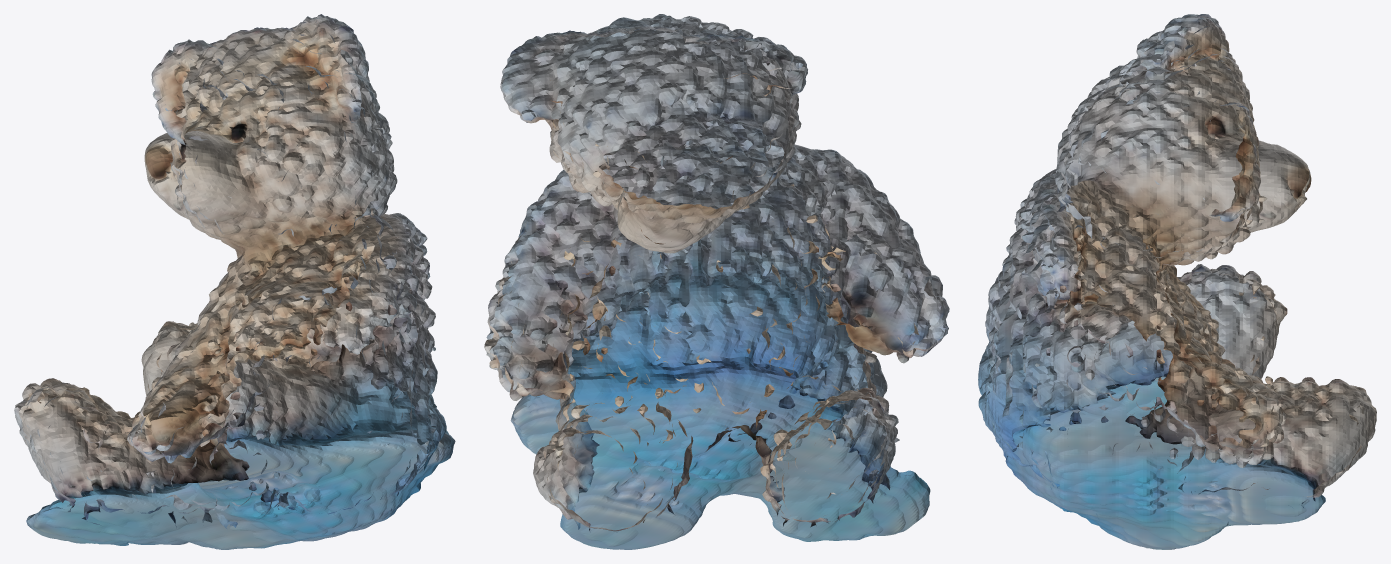
The picture shows the model from 3 angles, left to right: view 1: azimuth 30°, elevation 25°; view 2: azimuth 150°, elevation 25°; view 3: azimuth 270°, elevation 25°; orthographic projection. The views are drawn at different scales.
Visible parts, largest first — view 1: geometry_0; view 2: geometry_0; view 3: geometry_0.
Boxes of the visible parts, x1,y1,x2,y2 form: geometry_0: [14, 14, 455, 549]; geometry_0: [484, 14, 949, 549]; geometry_0: [978, 14, 1376, 549].
Size of the model in its own units: 1.41 by 1.6 by 1.28.
